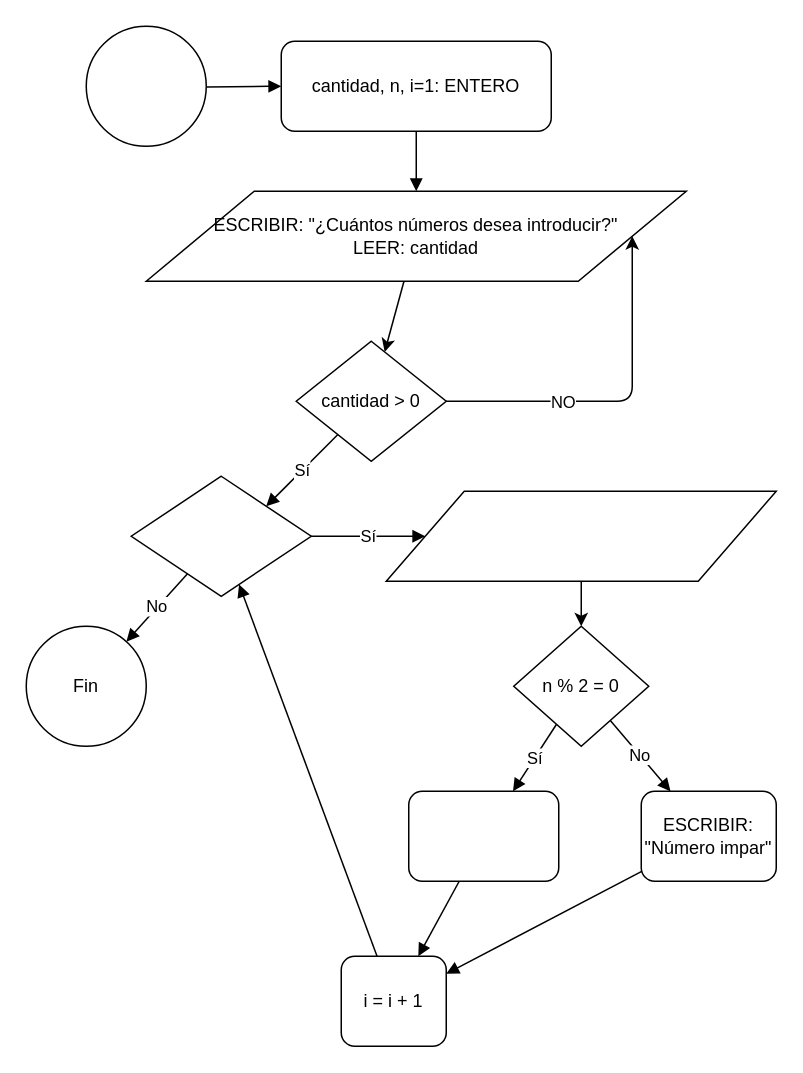
This 803x1073 diagram has some shape labels left out. Here are the shapes that lost their labels. From the top down, the box of each, then its label:
(85, 25, 206, 146): Inicio
(130, 475, 311, 596): i <= cantidad
(385, 490, 776, 581): ESCRIBIR: "Introduce un número" LEER: n
(407, 790, 559, 881): ESCRIBIR: "Número par"
